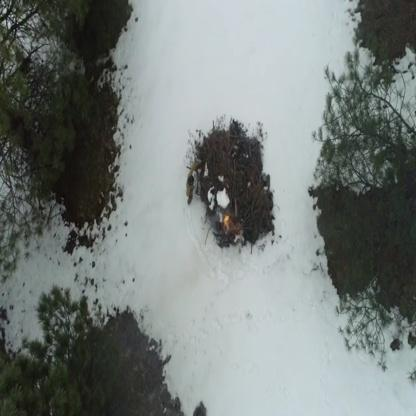Fire: (224, 214, 232, 227), (234, 228, 240, 236)
